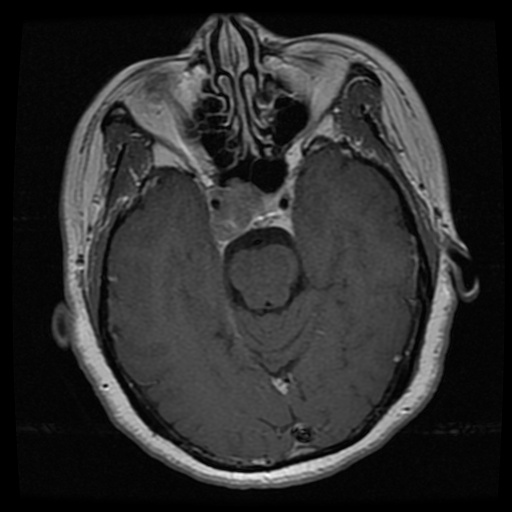pituitary: (213, 184, 285, 240)
